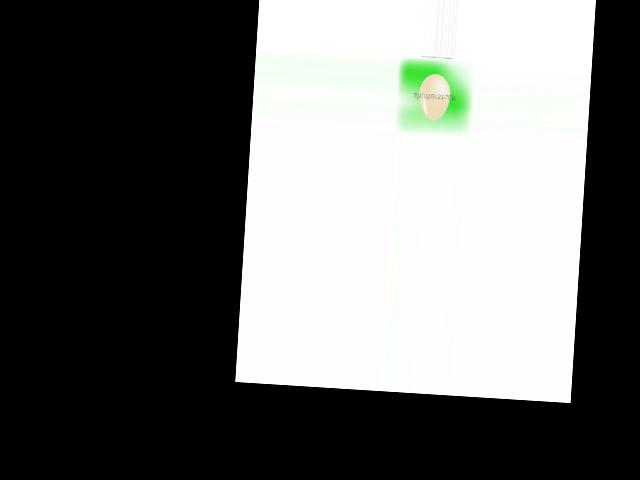egg: (418, 73, 452, 121)
